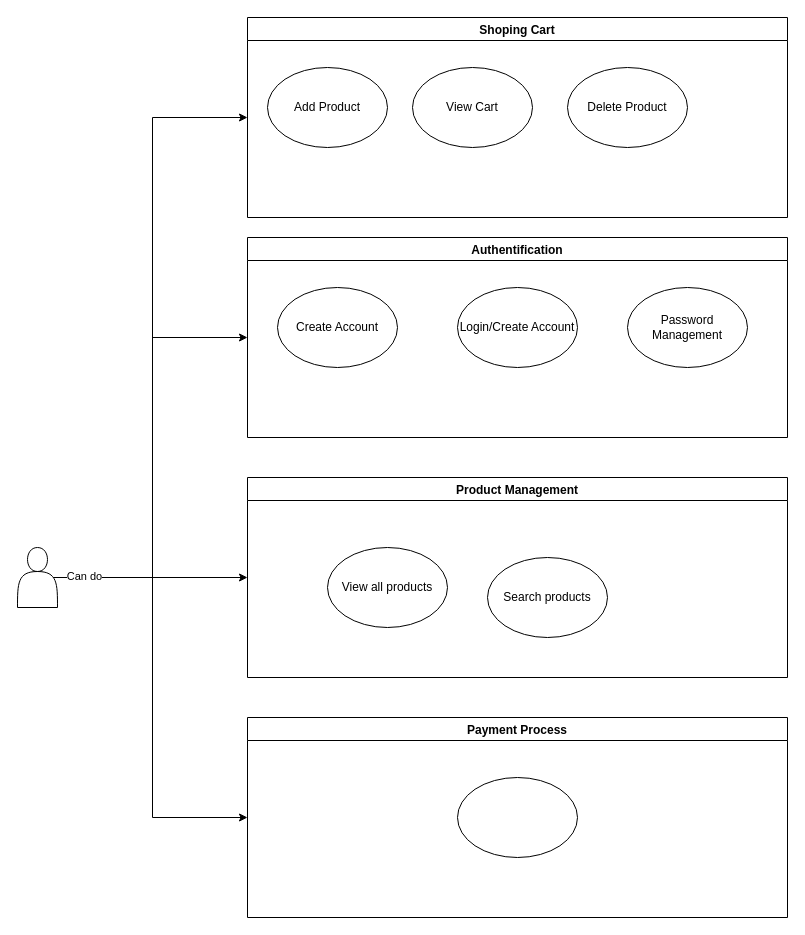
This 805x935 diagram has some shape labels left out. Each missing label, with the centre of its shape:
"Pay cart" belongs at point (517, 817).
"User" belongs at point (37, 577).
